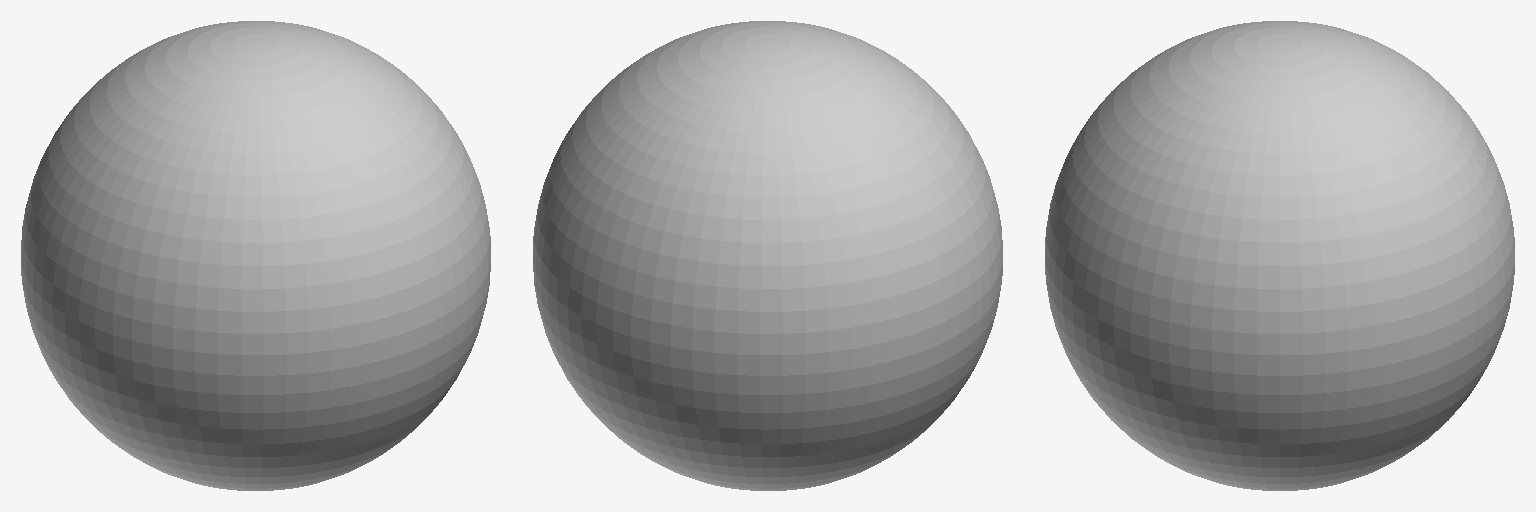
The model's file is earth_low_poly.obj.
The picture shows the model from 3 angles: view 1: azimuth 30°, elevation 25°; view 2: azimuth 150°, elevation 25°; view 3: azimuth 270°, elevation 25°; orthographic projection.
Visible parts, largest first — view 1: Sphere; view 2: Sphere; view 3: Sphere.
Boxes of the visible parts, <box> form: Sphere: <box>21,21,490,490</box>; Sphere: <box>533,21,1002,490</box>; Sphere: <box>1045,21,1514,490</box>.
Bounding box in the file's own units: 2 × 2 × 2.